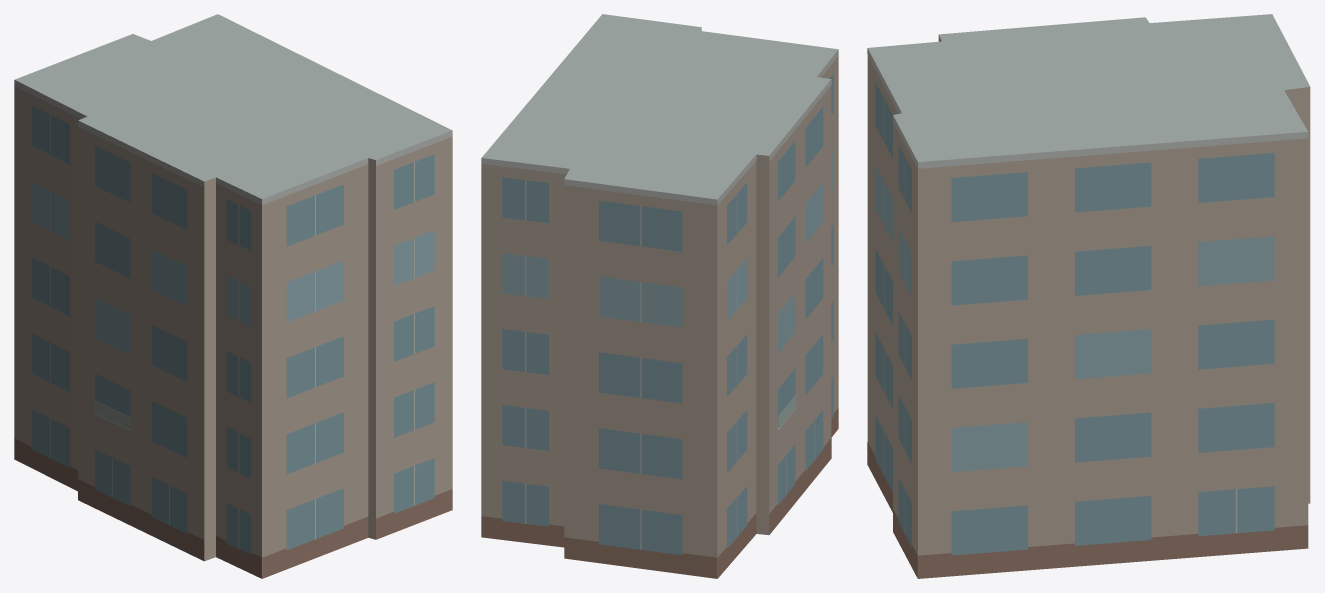
Rendered from survey-upis-32664967.glb.
The picture shows the model from 3 angles, left to right: view 1: azimuth 30°, elevation 25°; view 2: azimuth 150°, elevation 25°; view 3: azimuth 270°, elevation 25°; orthographic projection. The views are drawn at different scales.
Visible parts, largest first — view 1: survey-upis-32664967.tmp; view 2: survey-upis-32664967.tmp; view 3: survey-upis-32664967.tmp.
Part boxes in pixels (x1,y1,x2,y2): survey-upis-32664967.tmp: (14,14,452,578); survey-upis-32664967.tmp: (481,14,838,578); survey-upis-32664967.tmp: (867,14,1310,578).
Bounding box in the file's own units: 11.73 × 15.37 × 14.82.
